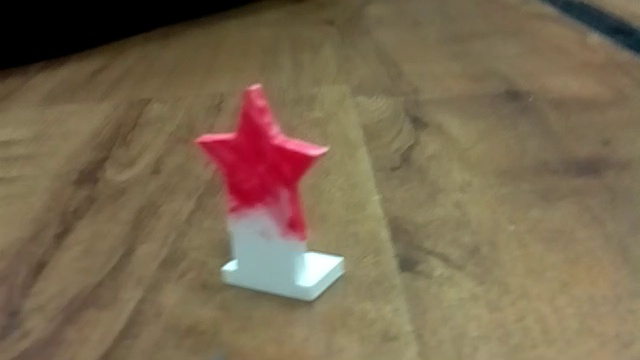star: (185, 83, 368, 309)
